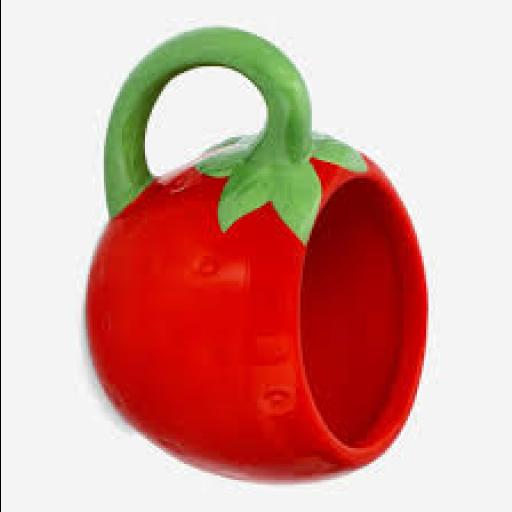red mug: (87, 30, 425, 482)
